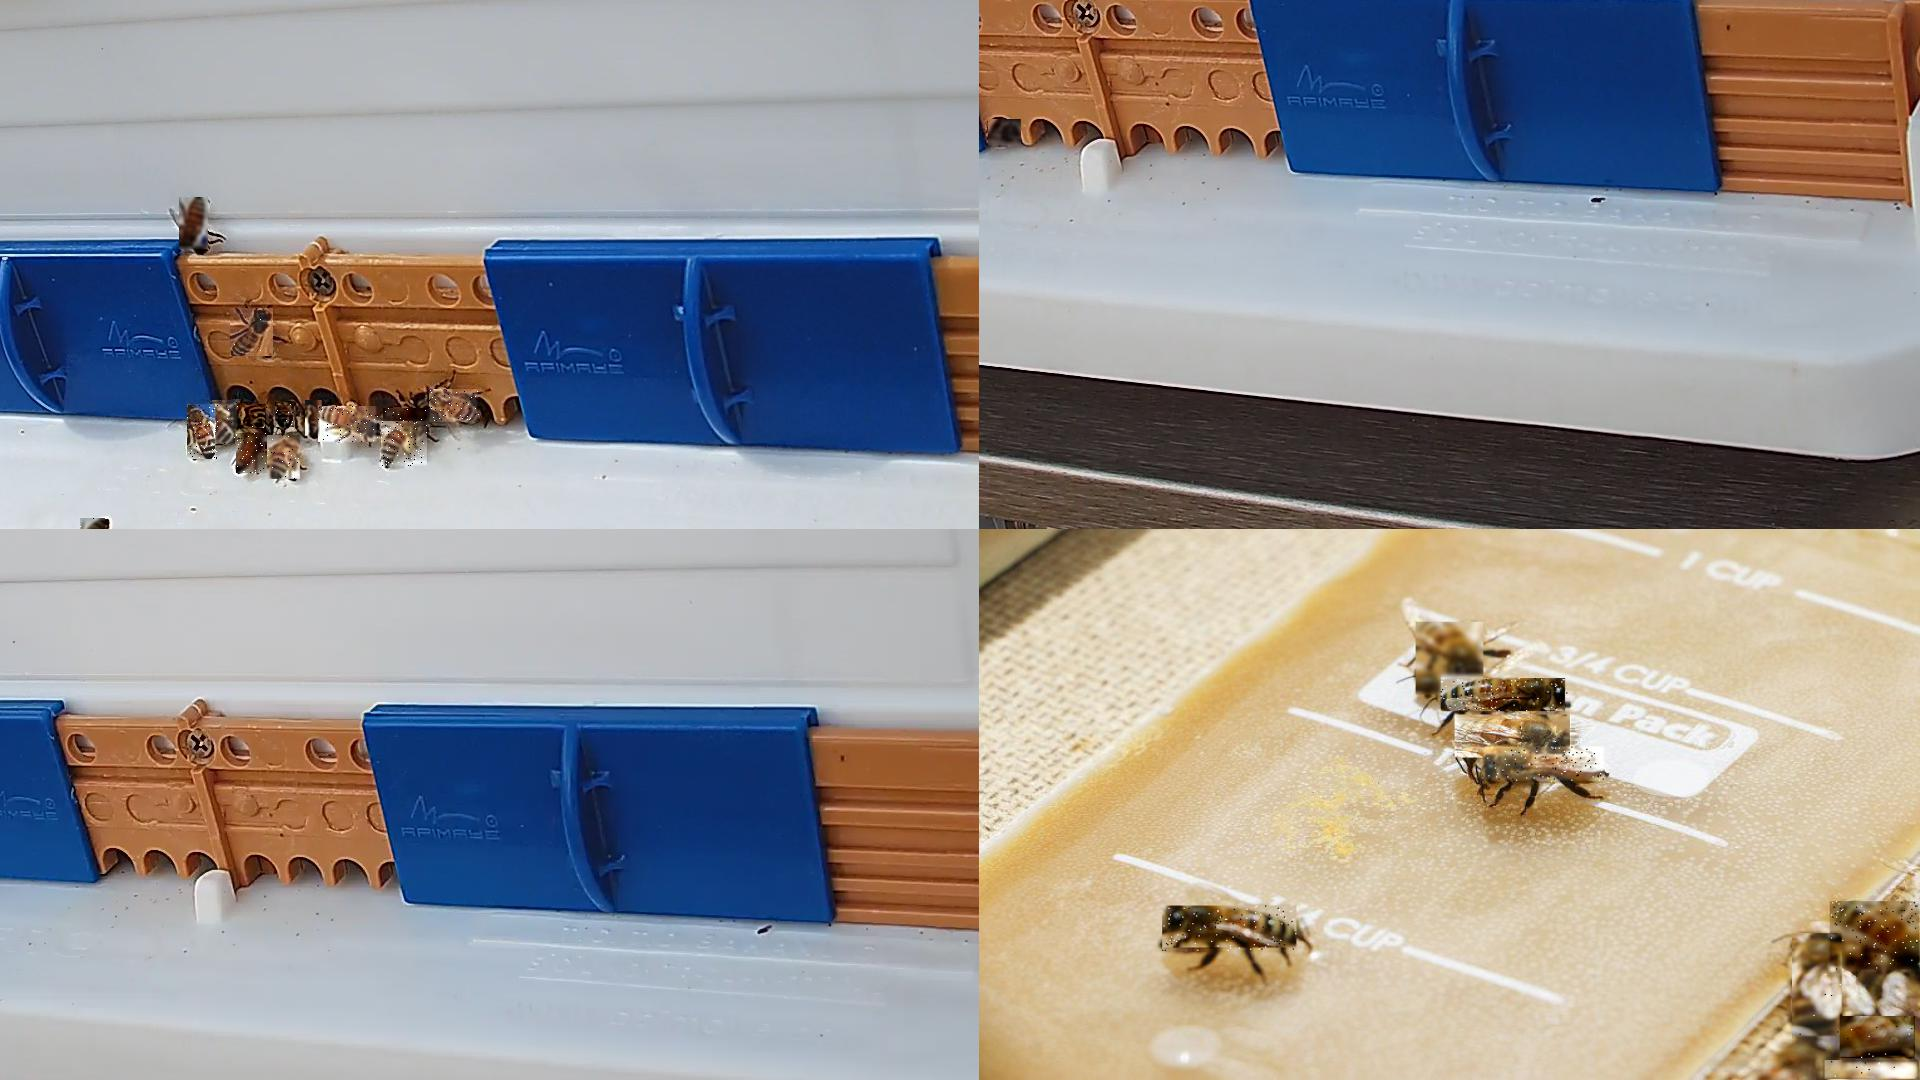bee: (1163, 906, 1299, 953), (1829, 901, 1919, 971), (1792, 934, 1844, 1040), (1456, 715, 1576, 758), (1416, 622, 1485, 698), (1487, 748, 1609, 783), (1443, 679, 1571, 712), (1841, 1015, 1919, 1063), (231, 309, 274, 357), (187, 404, 220, 460), (430, 389, 481, 423), (1825, 1060, 1919, 1079), (181, 198, 211, 252), (266, 435, 301, 480), (214, 400, 241, 444), (237, 434, 268, 475), (988, 120, 1022, 148), (305, 400, 323, 436), (384, 409, 433, 422), (276, 401, 295, 429), (80, 518, 109, 527)
pollenbee: (381, 422, 429, 469), (319, 406, 380, 443), (236, 405, 270, 433)
